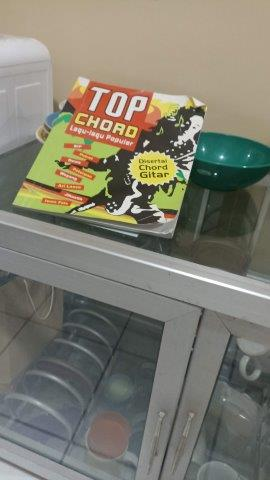kertas: (10, 76, 207, 241)
